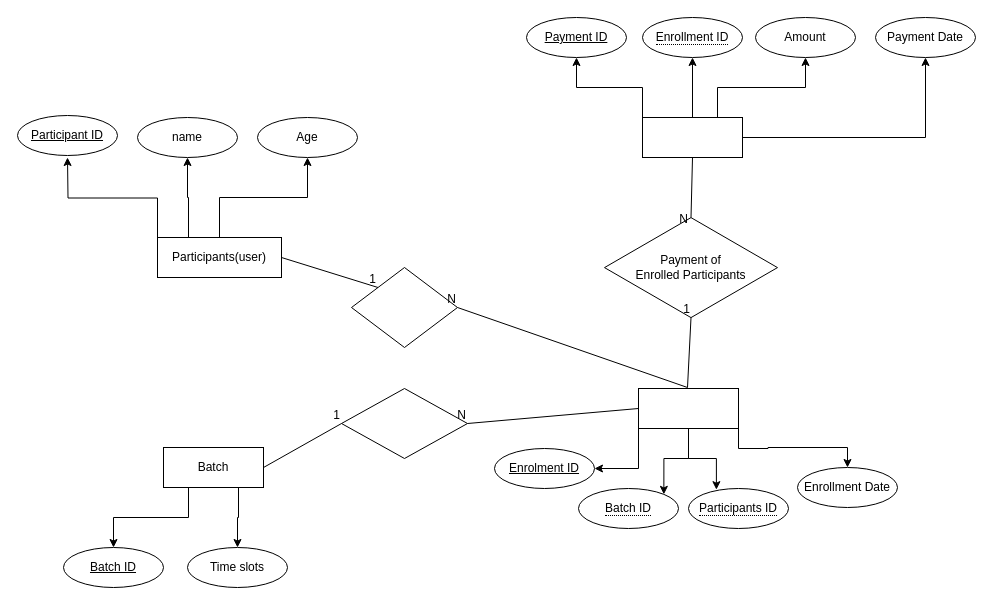
The diagram is 993 pixels wide and 605 high, and some of its shapes have lost their labels. The shapes that lost their labels are listed below. From the top down, each one's centre as x and y in pixels, then its label:
(x=692, y=137): Payment
(x=404, y=307): Participation
(x=404, y=423): Batch Enrollment
(x=688, y=408): Enrollment
